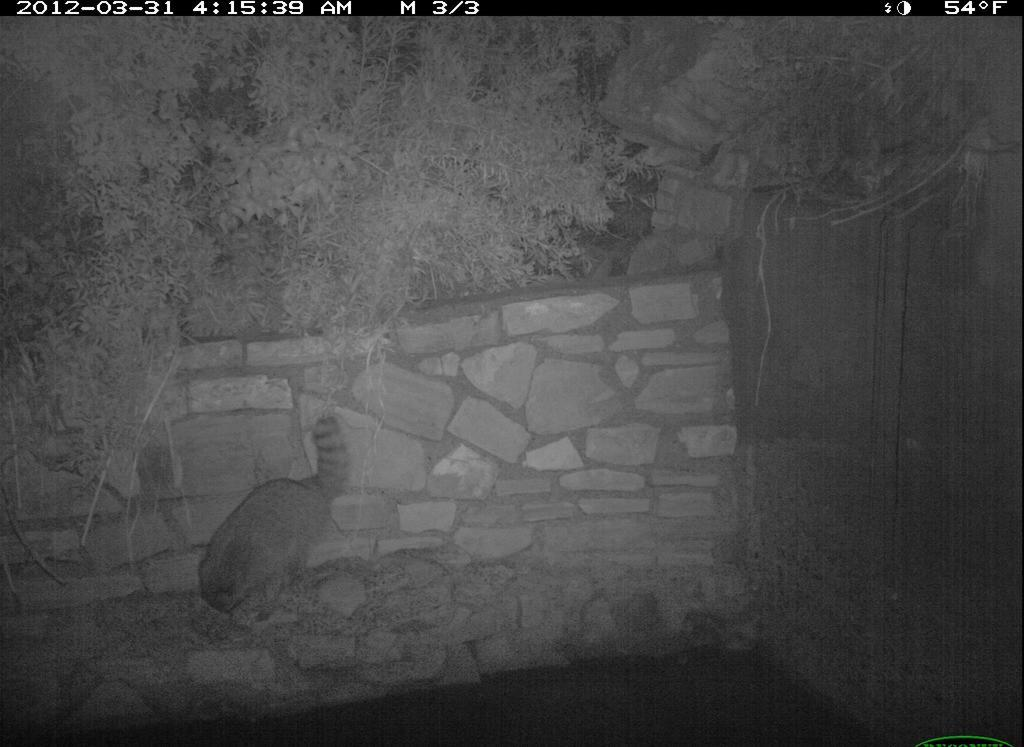raccoon: (198, 402, 350, 635)
